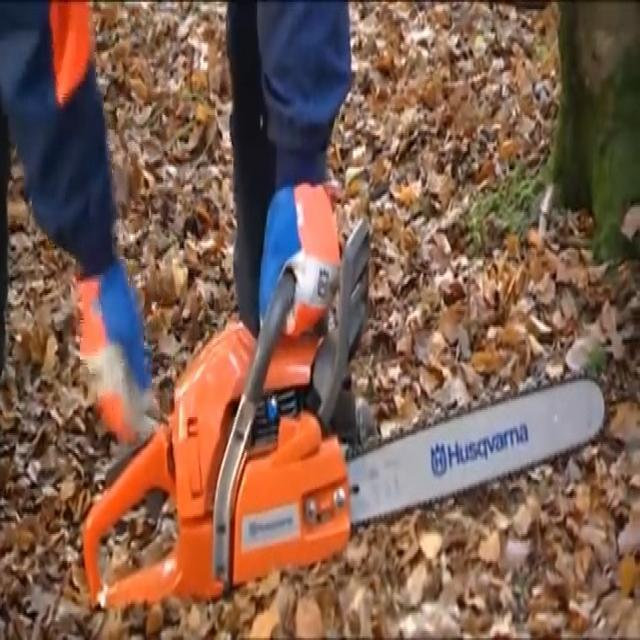Chainsaw: (51, 218, 621, 628)
